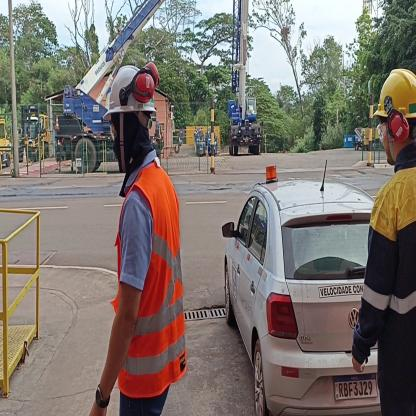Balaclava: (112, 116, 149, 168)
C_eletrica: (365, 167, 416, 416)
Capacete: (106, 62, 155, 112), (369, 68, 416, 116)
colete: (111, 172, 188, 390)
